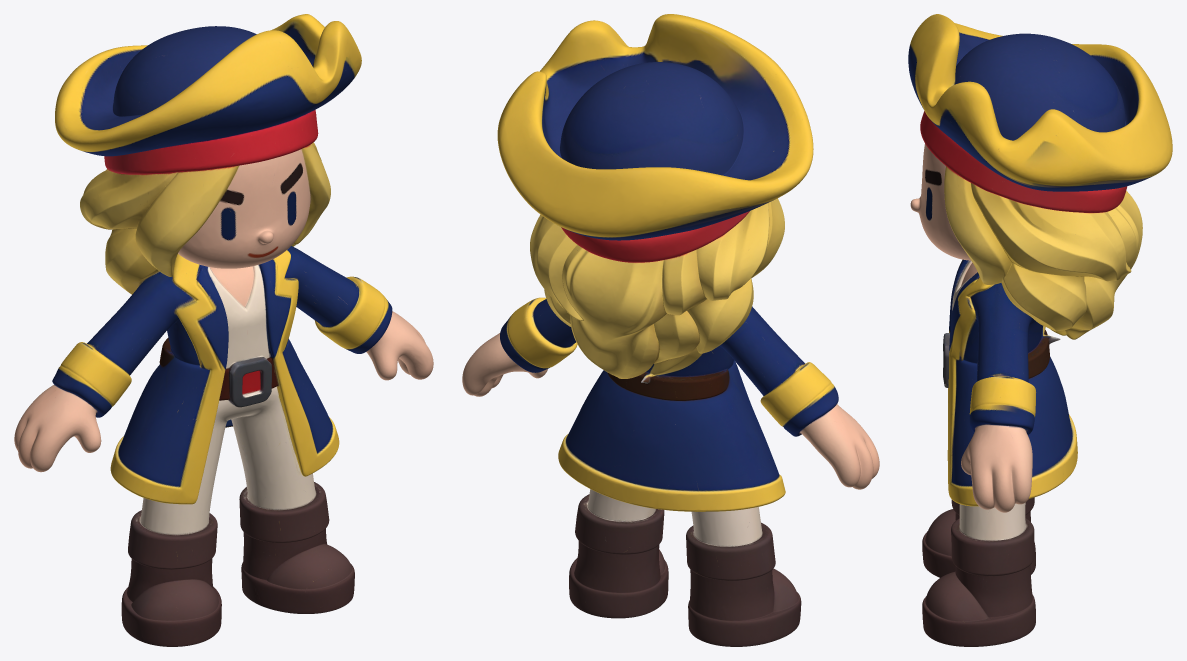
File: margot_original_statisch.glb
The picture shows the model from 3 angles, left to right: view 1: azimuth 30°, elevation 25°; view 2: azimuth 150°, elevation 25°; view 3: azimuth 270°, elevation 25°; orthographic projection.
Size of the model in its own units: 1.39 by 1.9 by 0.7903.
Materials: 1 (1 with a texture image).
